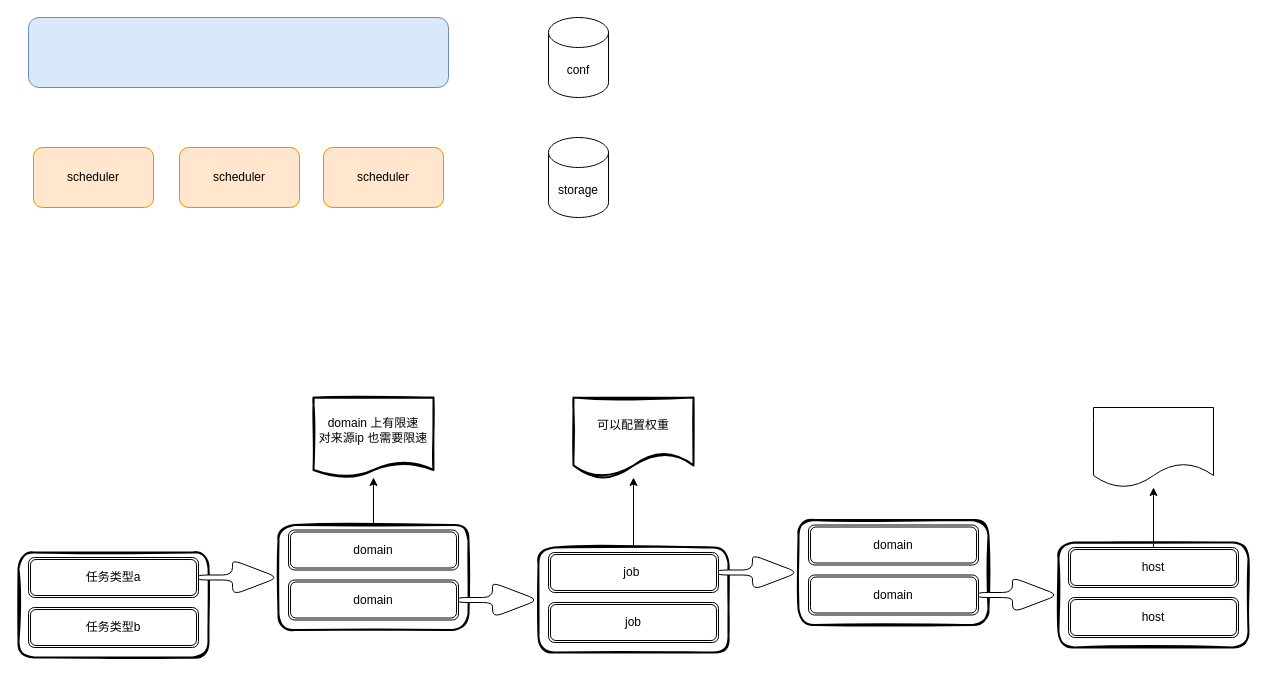
This 1266x676 diagram has some shape labels left out. The centre of each missing label's shape, as x and y in pixels:
api master: (x=238, y=52)
配置速度和权重: (x=1153, y=447)
